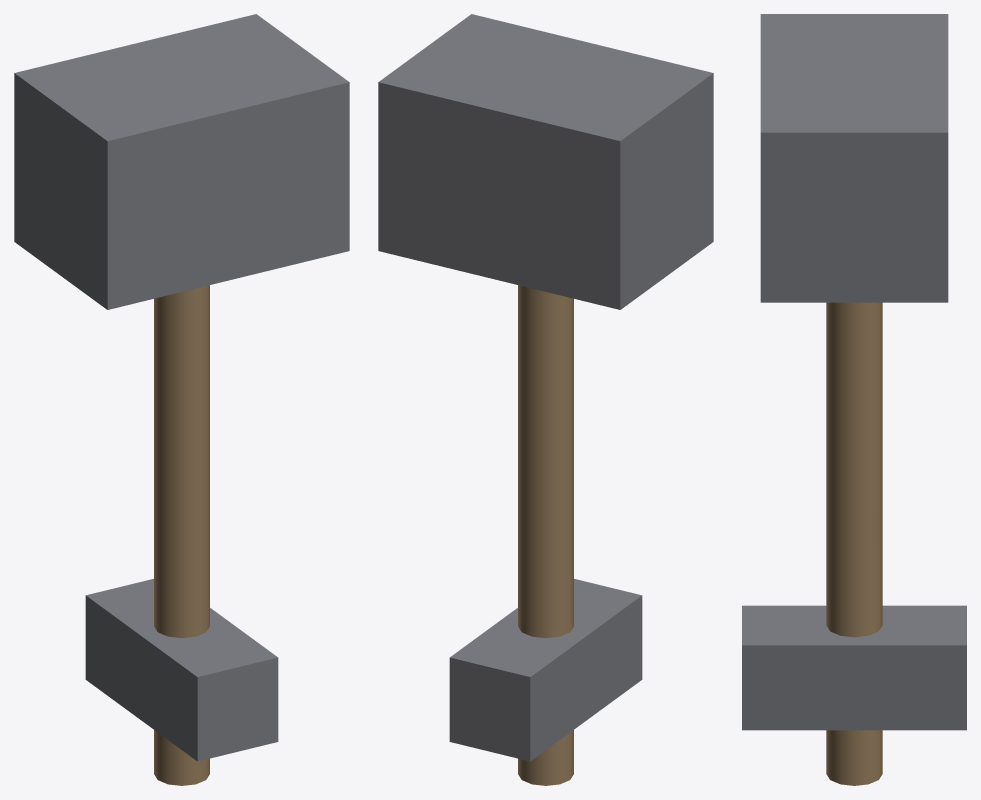
File: equip-hammer.glb
3 renders of one model, left to right at view 1: azimuth 30°, elevation 25°; view 2: azimuth 150°, elevation 25°; view 3: azimuth 270°, elevation 25°, orthographic.
Visible parts, largest first — view 1: equip_hammer; view 2: equip_hammer; view 3: equip_hammer.
Boxes of the visible parts, x1,y1,x2,y2 form: equip_hammer: [14, 14, 349, 785]; equip_hammer: [378, 14, 713, 785]; equip_hammer: [742, 14, 966, 785].
Size of the model in its own units: 0.6 by 1.65 by 0.48.
